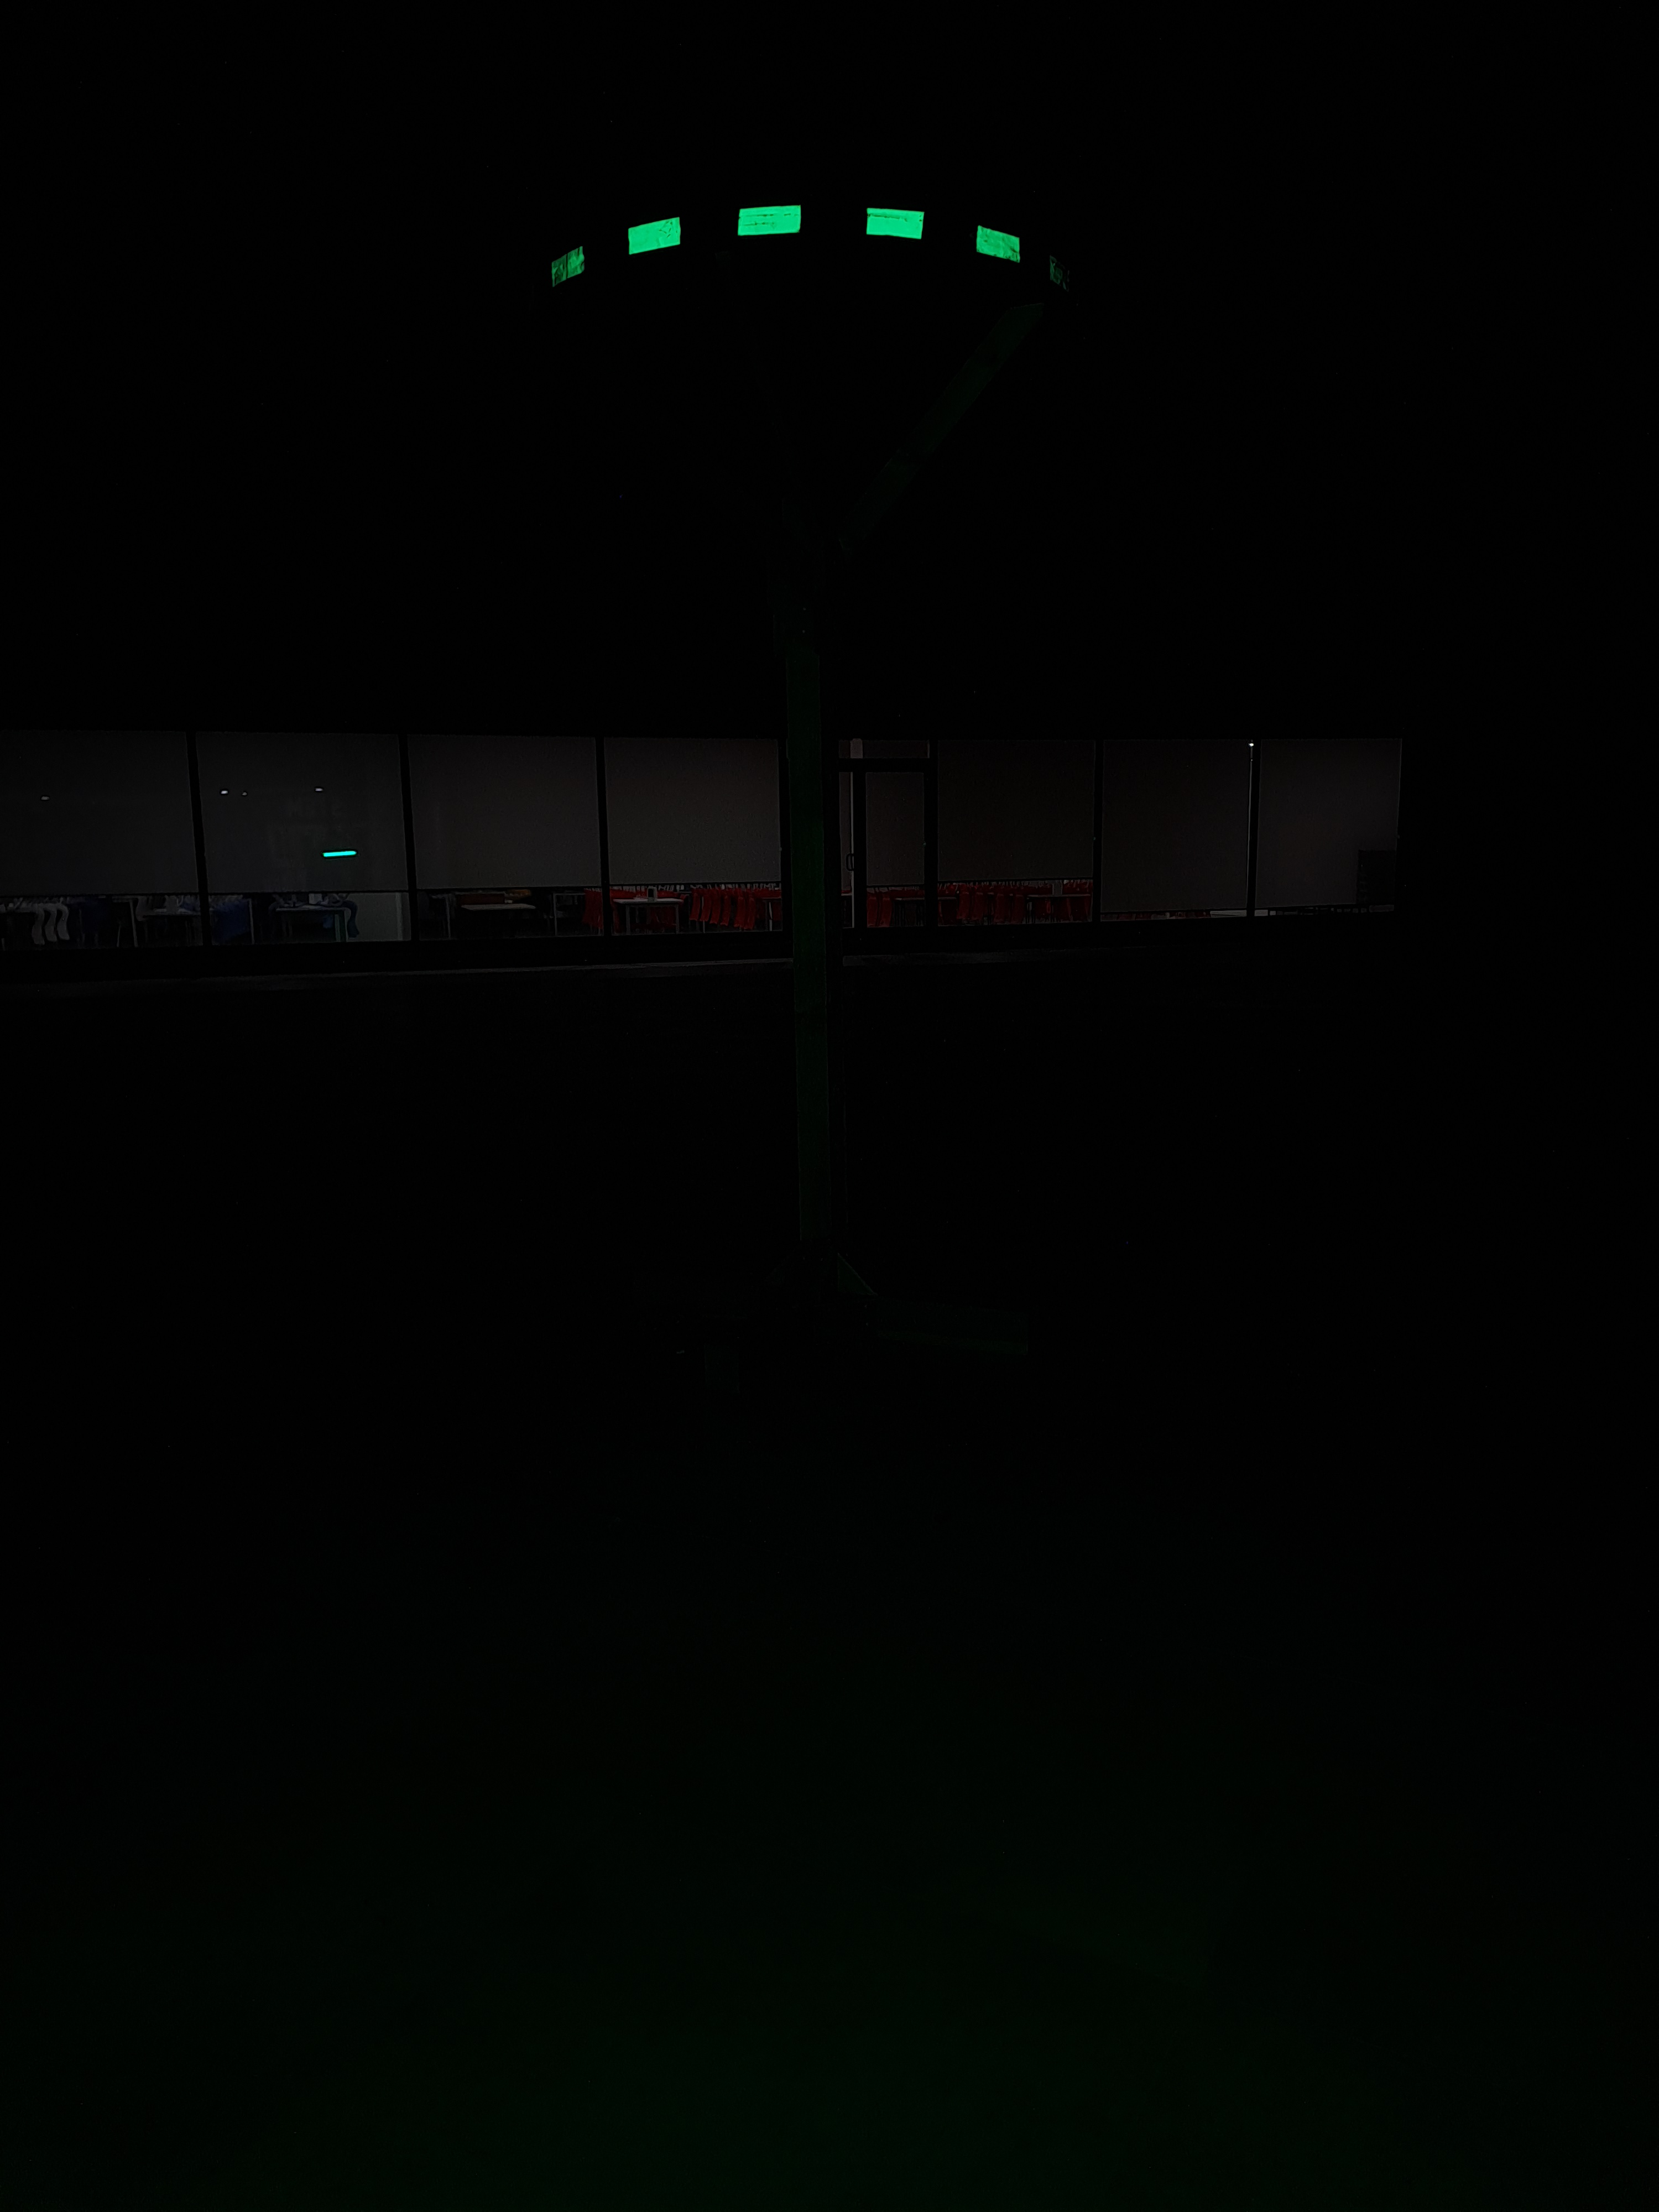hoop: (528, 204, 1077, 298)
